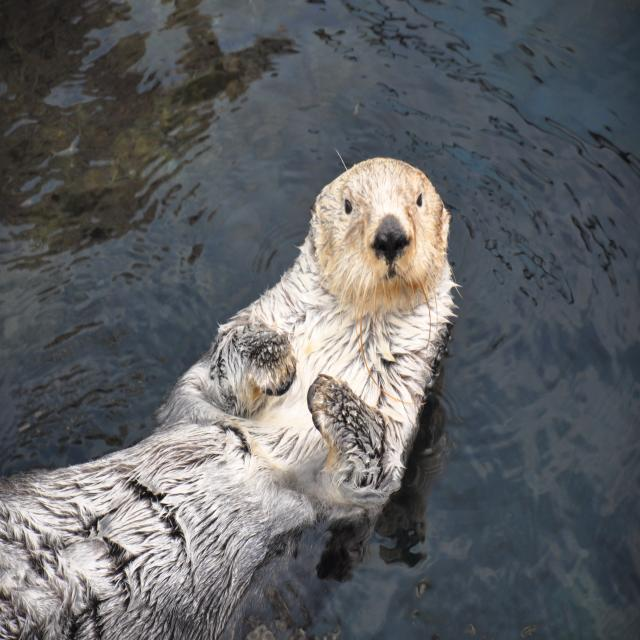otter: (1, 151, 458, 640)
